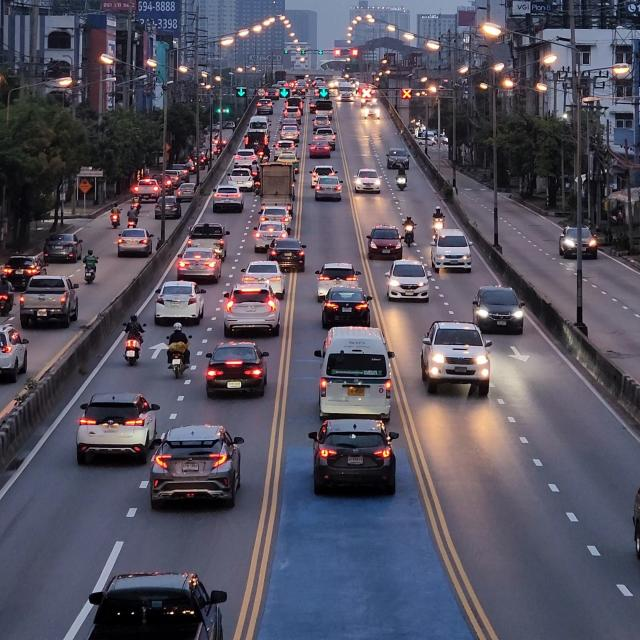Car: (310, 324, 402, 426), (151, 421, 248, 504), (311, 419, 400, 496), (421, 318, 496, 398), (78, 392, 162, 462), (203, 340, 270, 400), (20, 275, 86, 332), (224, 283, 284, 338), (475, 287, 525, 339), (152, 280, 207, 325), (388, 260, 433, 306), (433, 227, 474, 276), (178, 248, 224, 286), (365, 224, 407, 262), (121, 228, 154, 256)
